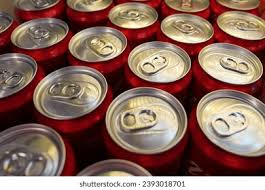can: (1, 1, 265, 176)
